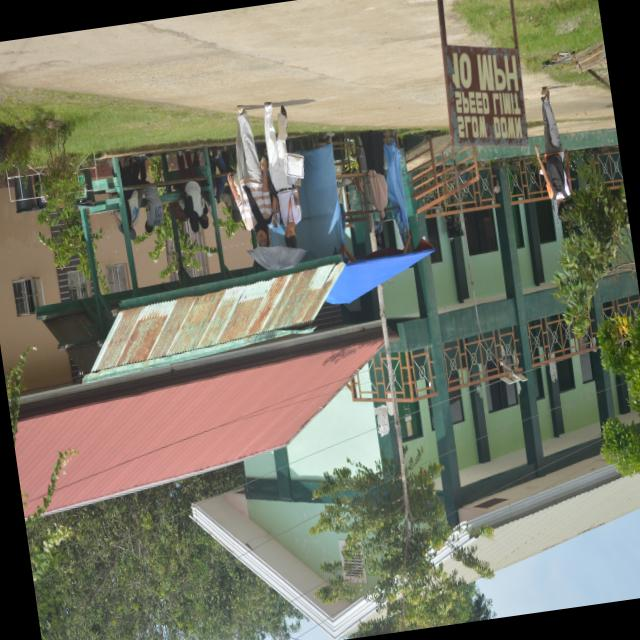person: (227, 105, 272, 246), (265, 101, 301, 246), (535, 86, 571, 218), (361, 130, 388, 219), (179, 180, 208, 231)
